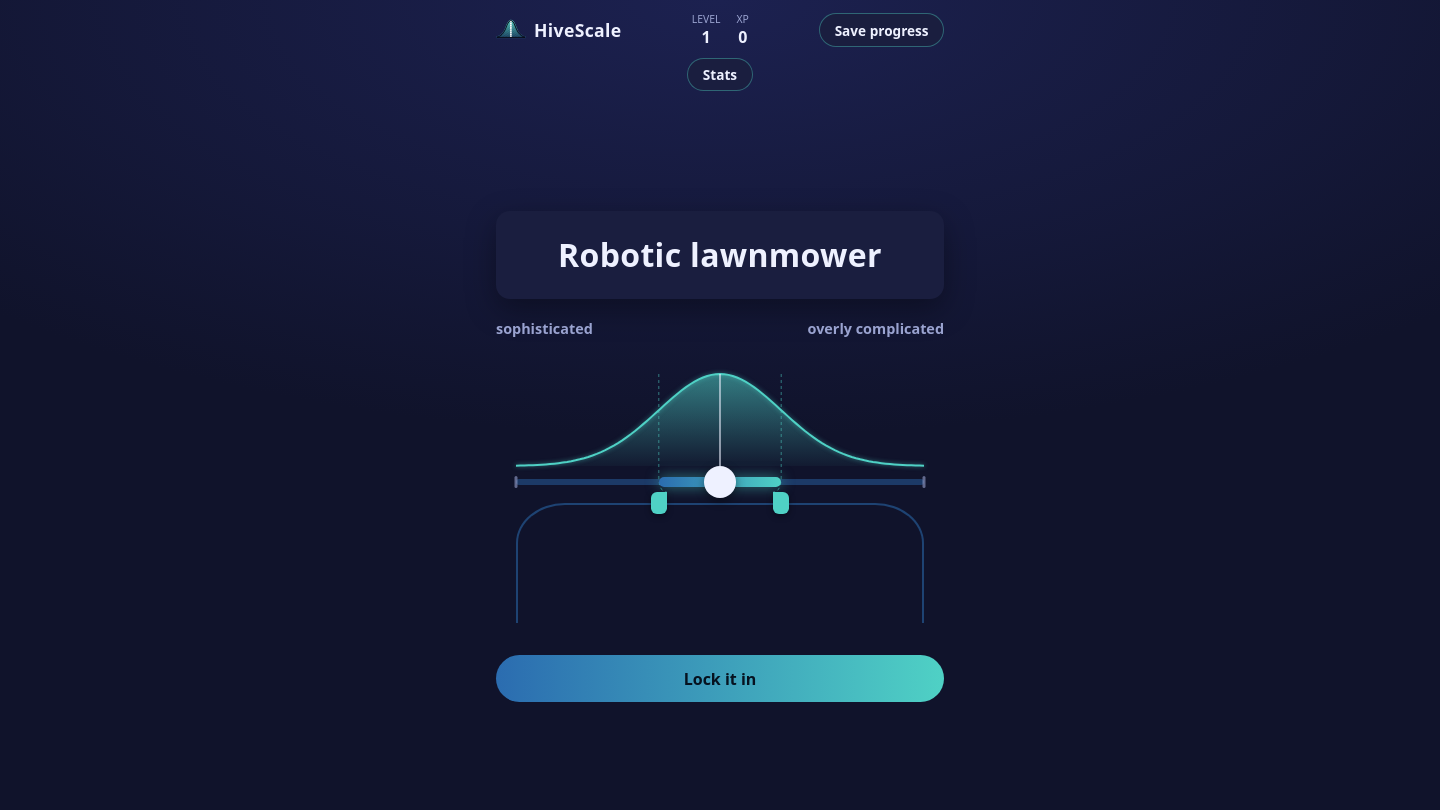
Test case: PlayScreen › shows a too-fast toast when the answer didn't count
The width and height of the screenshot is (1440, 810).
Click the button "Lock it in".
click(720, 679)  # box [496,655,944,702]
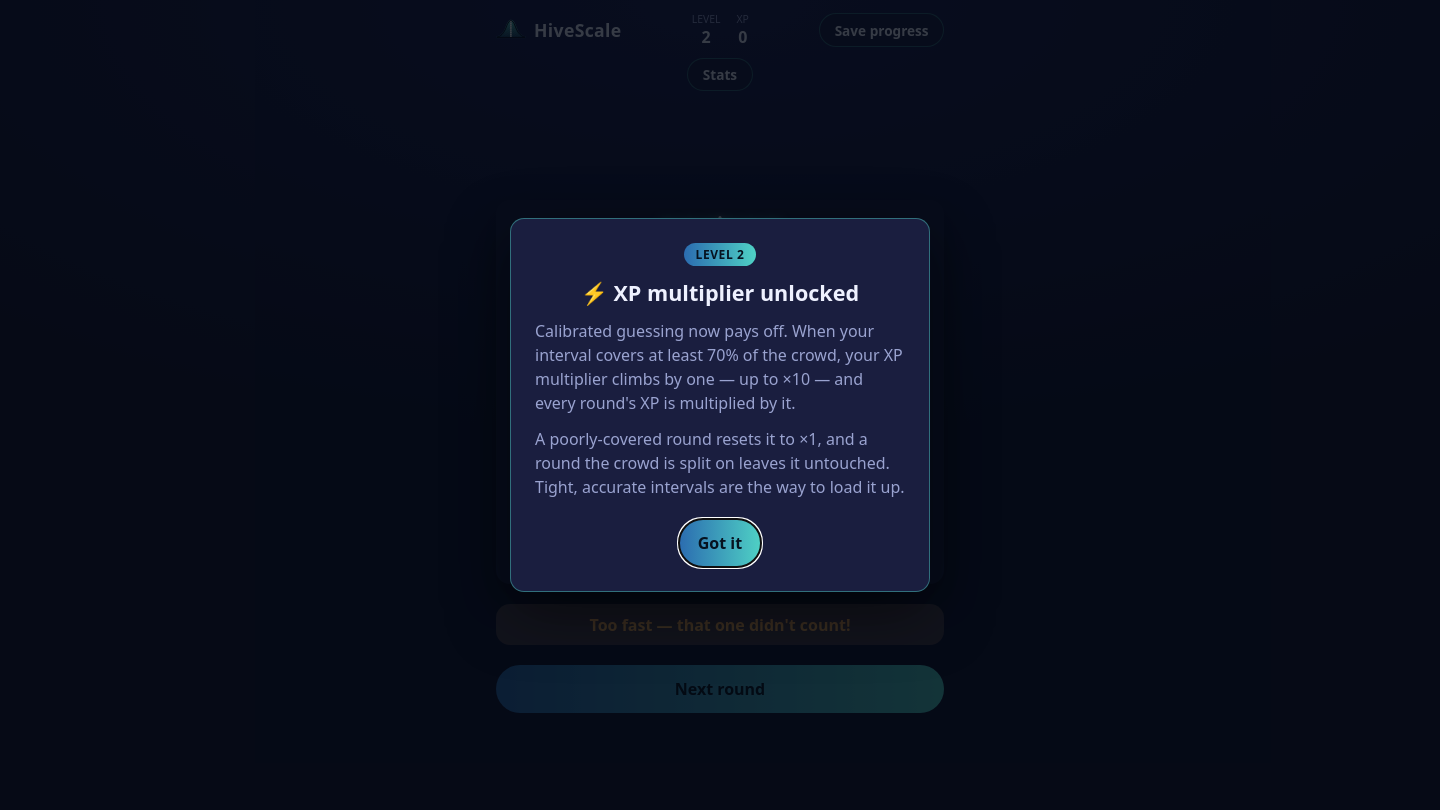
Expected: the text with test id "session-xp" reads "0", [738,26,747,48]
Expected: the message shows "Too fast", [590,614,850,636]
